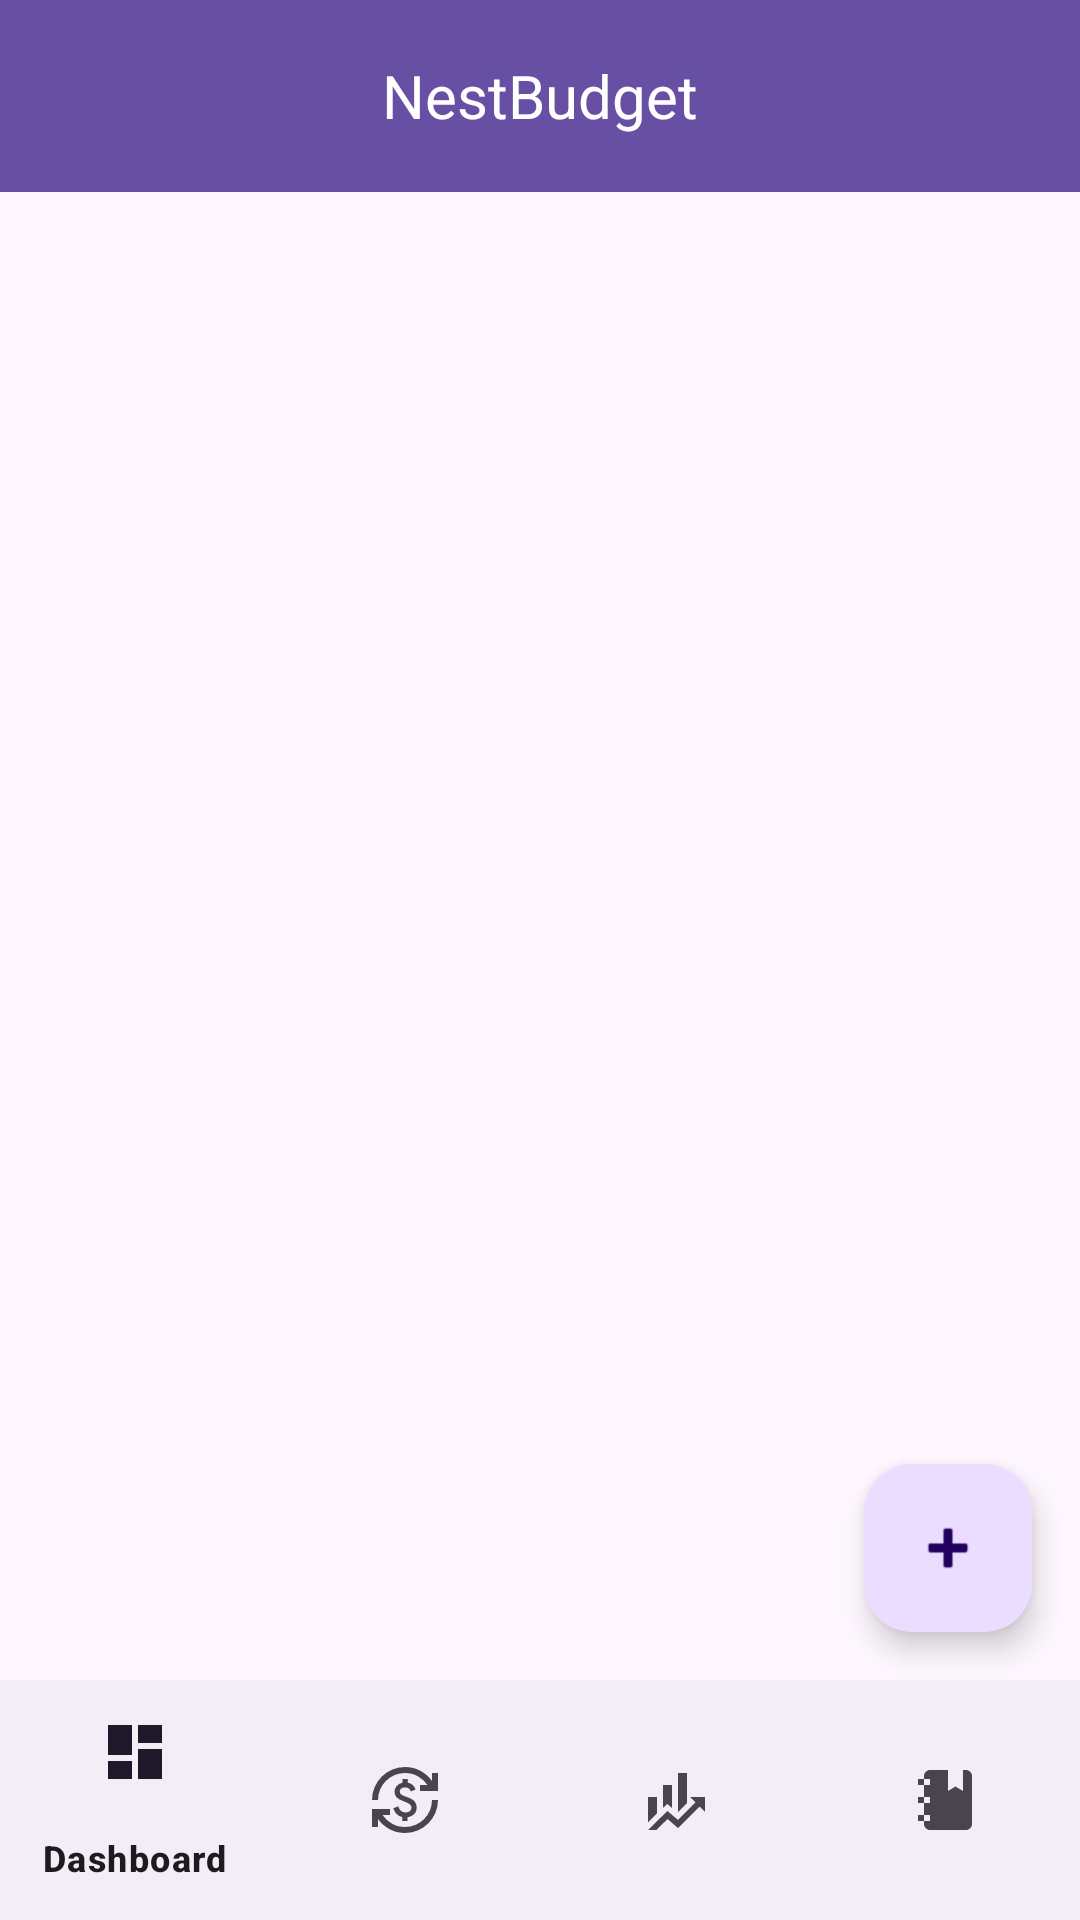

Screen size 1080 × 1920. Icon name, then its center in pixels as (x=x, y=y):
Add new item: (x=948, y=1548)
